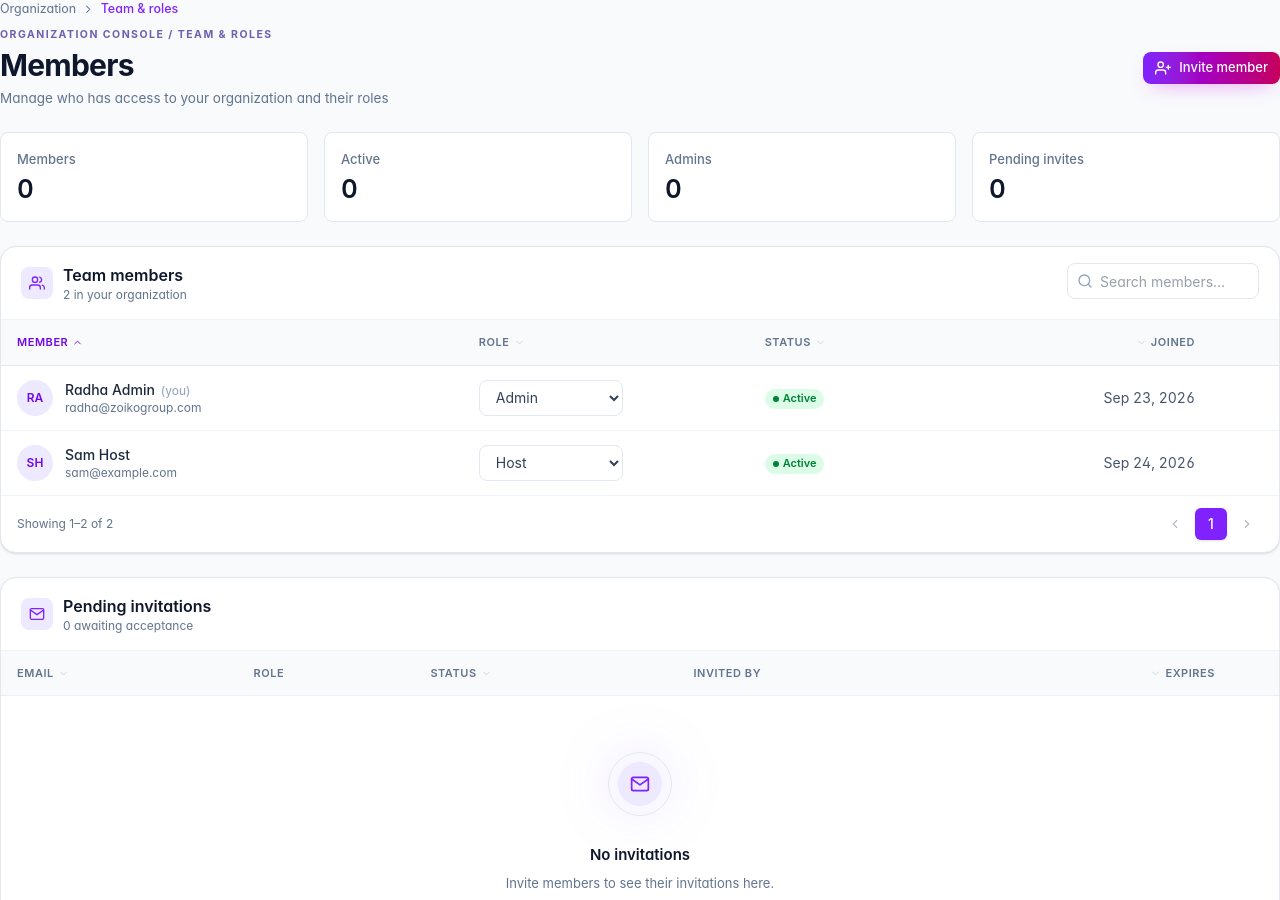
Test: promotion to Admin asks for the acting admin's password › cancel: the role rolls back and nothing more is sent
Expected: the text "Sam Host" is shown, top-left (65, 446), bottom-right (130, 463)
Select "Admin" in the dropdown named "Role for Sam Host" at (551, 463), box top-left (479, 445), bottom-right (623, 481)
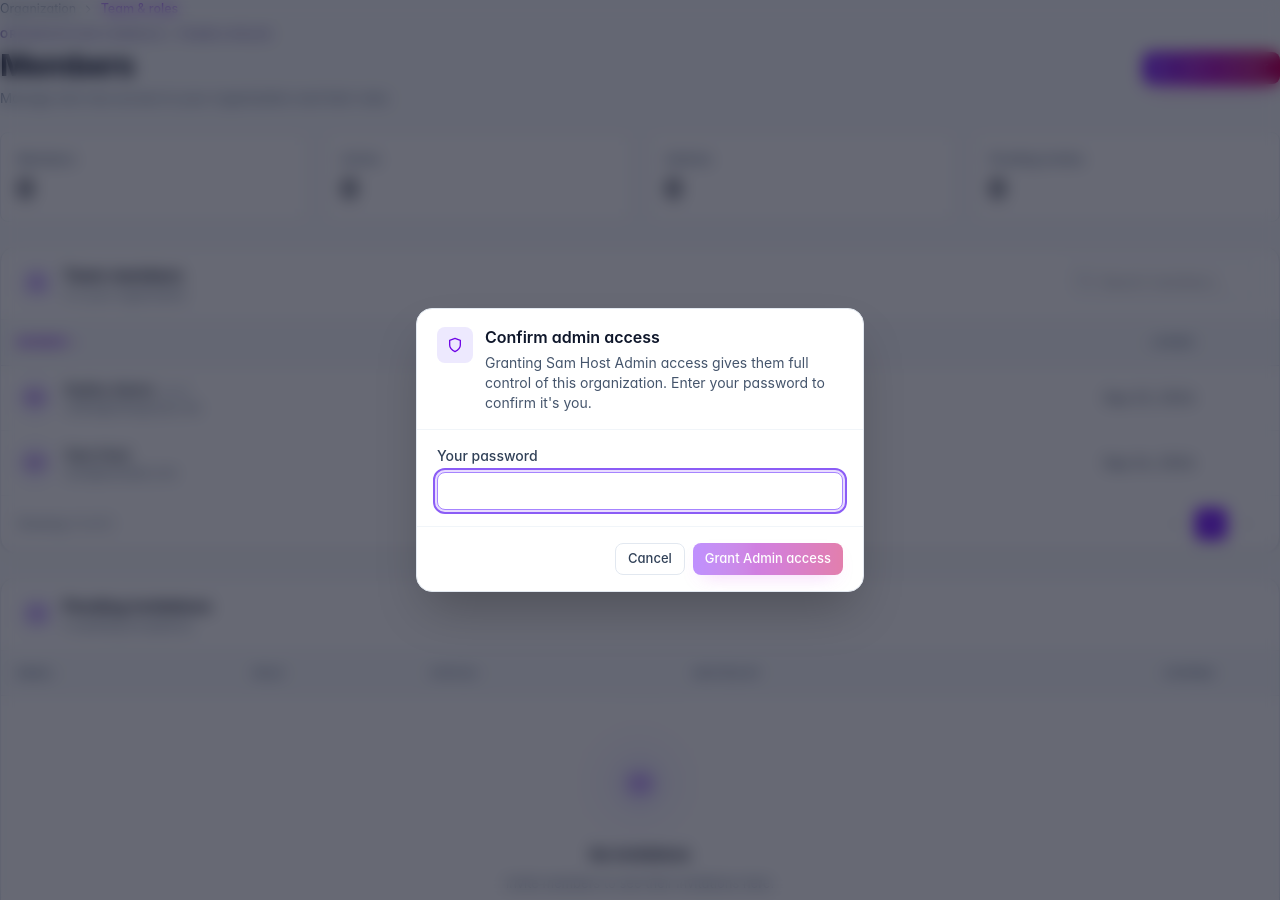
Click the button "Cancel" at (650, 559), box top-left (615, 543), bottom-right (685, 575)
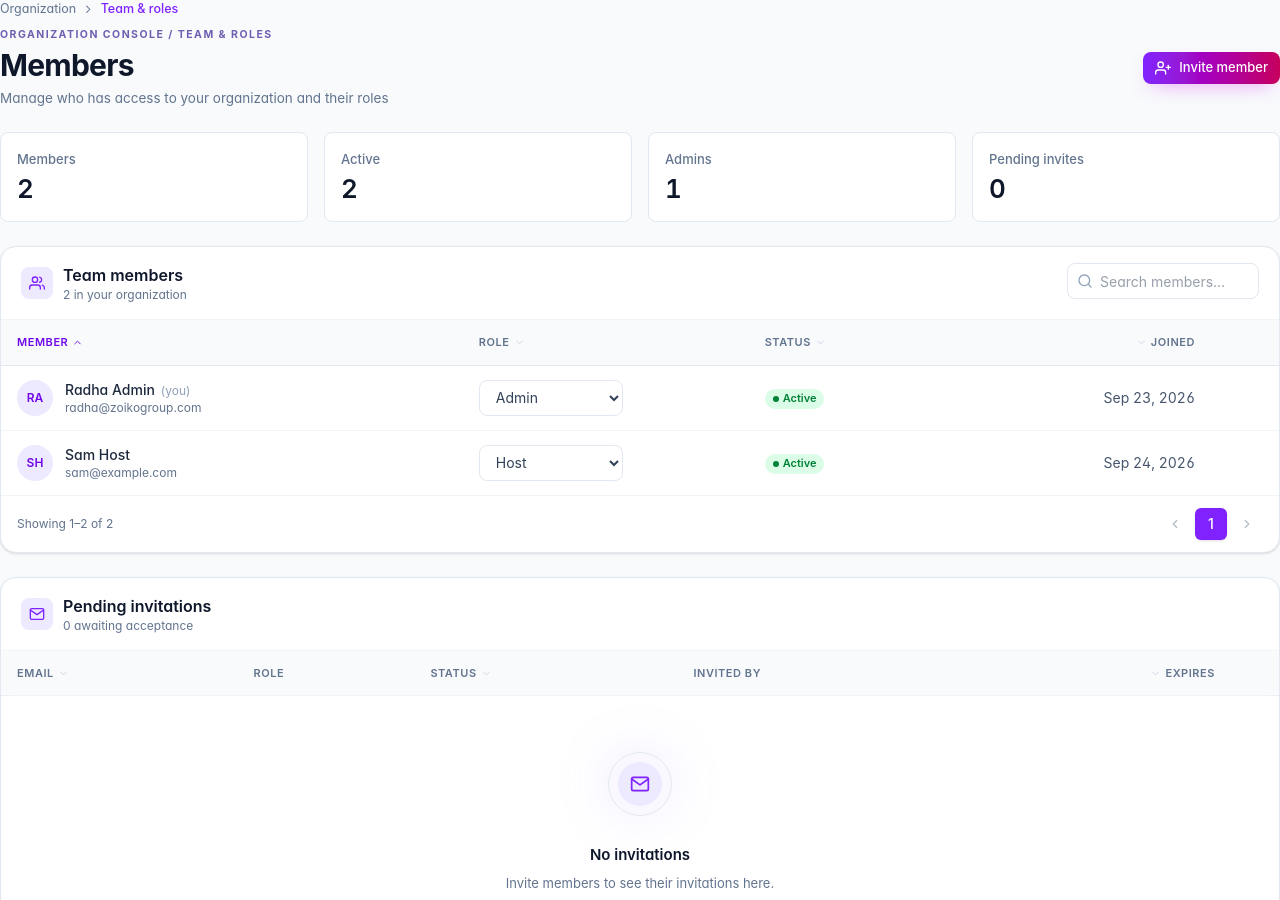
Result: the dialog is gone
Result: the dropdown named "Role for Sam Host" is enabled at top-left (479, 445), bottom-right (623, 481)
